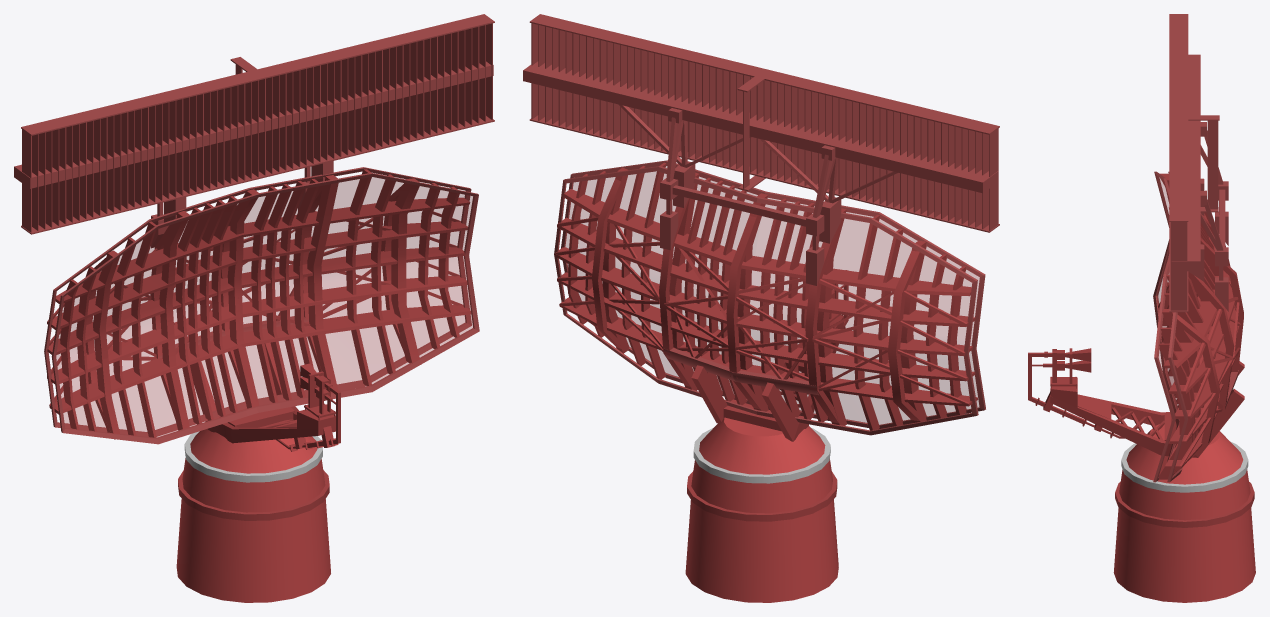
The model's file is Air_Radar_Middle.fbx.
The picture shows the model from 3 angles, left to right: view 1: azimuth 30°, elevation 25°; view 2: azimuth 150°, elevation 25°; view 3: azimuth 270°, elevation 25°; orthographic projection. The views are drawn at different scales.
Parts seen in each view (by area): view 1: Air_Rader; view 2: Air_Rader; view 3: Air_Rader.
Part boxes in pixels (x1,y1,x2,y2): Air_Rader: [14, 14, 494, 602]; Air_Rader: [523, 14, 999, 602]; Air_Rader: [1028, 14, 1255, 602].
Size of the model in its own units: 18.07 by 18.55 by 8.41.
